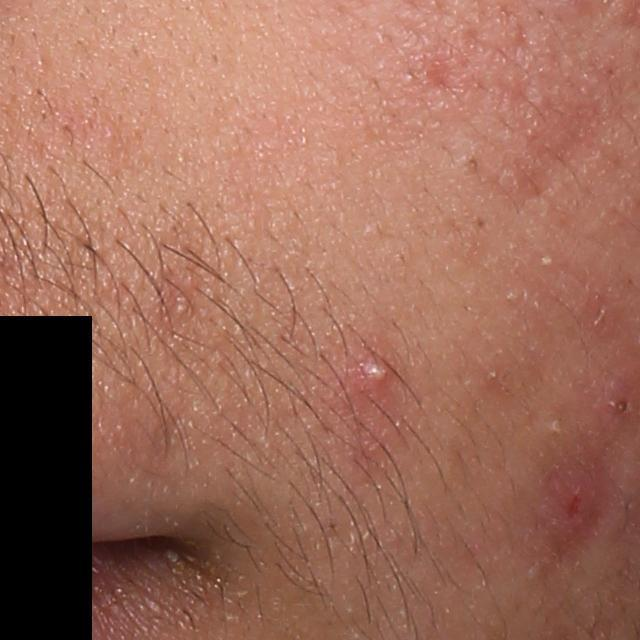comedo: (462, 151, 488, 180), (166, 290, 192, 318)
pustule: (347, 339, 402, 394)
